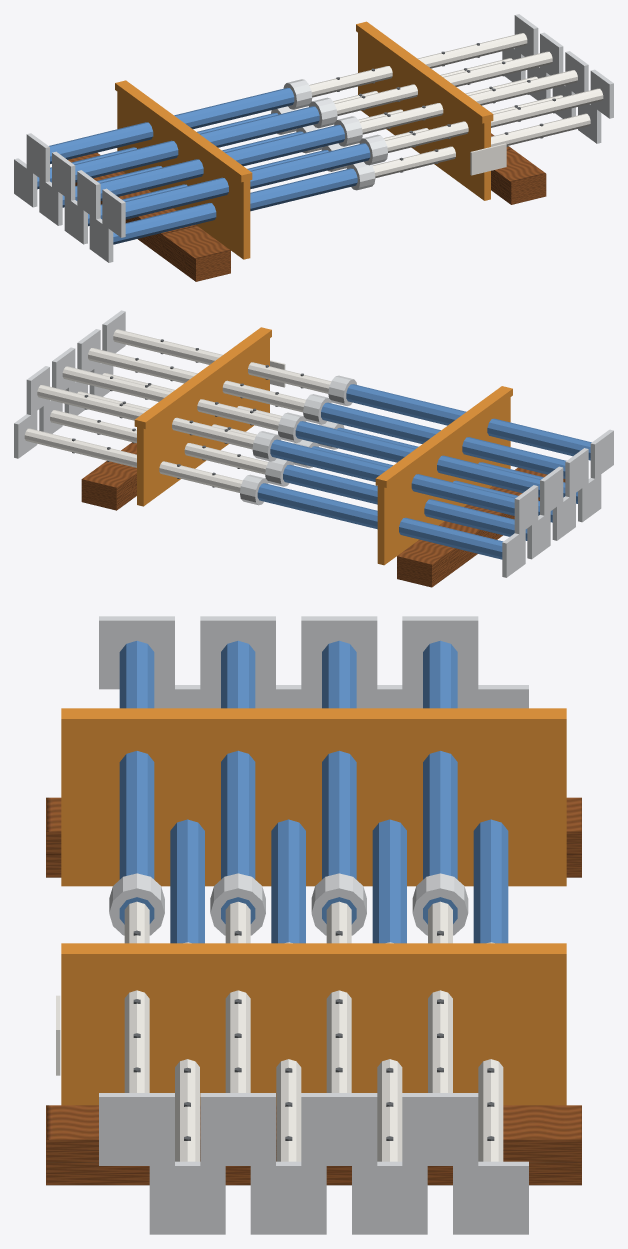
File: tool-hire-depot-and-plant-yard-tool-hire-depot-and-pla-1068fa43__35333.glb
The picture shows the model from 3 angles, top to bottom: view 1: azimuth 30°, elevation 25°; view 2: azimuth 150°, elevation 25°; view 3: azimuth 270°, elevation 25°; orthographic projection. The views are drawn at different scales.
Visible parts, largest first — view 1: tool-hire-depot-and-plant-yard-adjustable-prop-stack; view 2: tool-hire-depot-and-plant-yard-adjustable-prop-stack; view 3: tool-hire-depot-and-plant-yard-adjustable-prop-stack.
Boxes of the visible parts, x1,y1,x2,y2 form: tool-hire-depot-and-plant-yard-adjustable-prop-stack: (14, 14, 613, 281); tool-hire-depot-and-plant-yard-adjustable-prop-stack: (14, 310, 613, 587); tool-hire-depot-and-plant-yard-adjustable-prop-stack: (46, 616, 581, 1234).
Bounding box in the file's own units: 2.25 × 0.4 × 1.06.
Materials: 6 (1 with a texture image).
